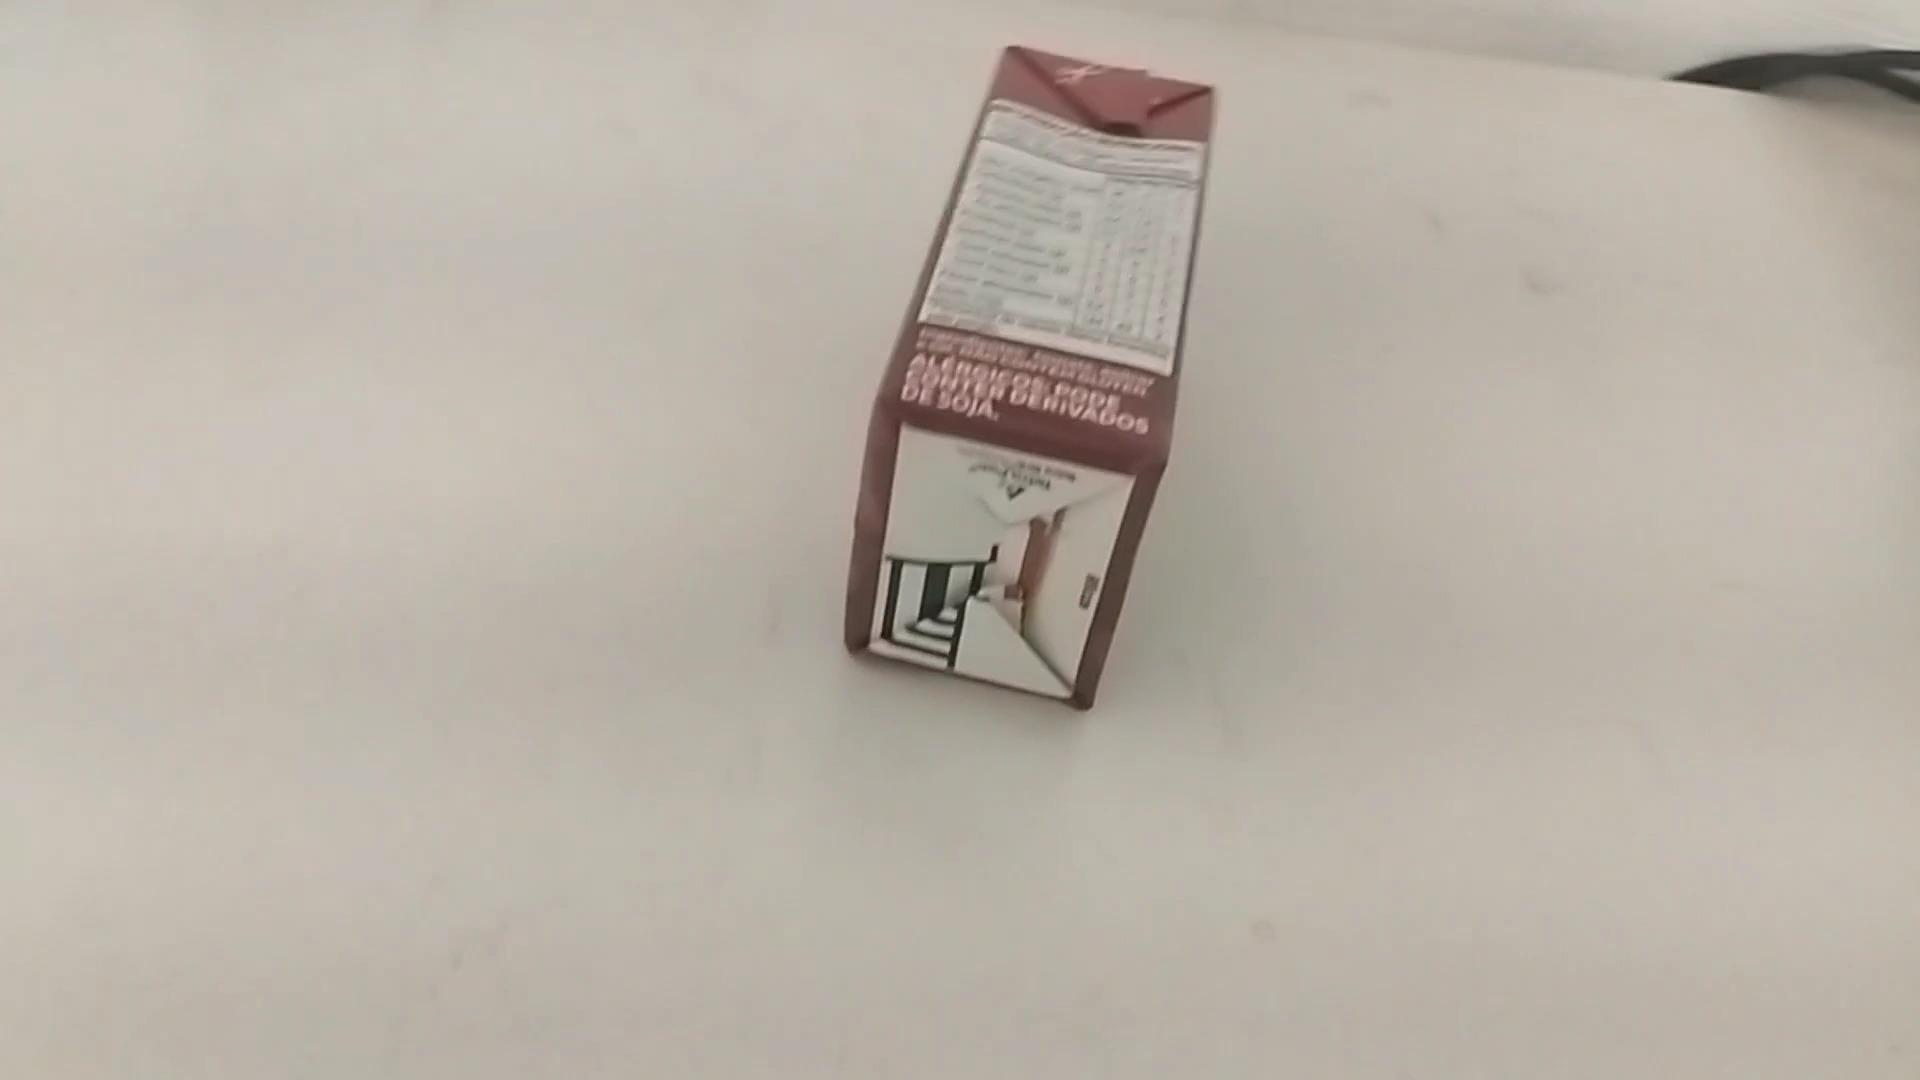tomate: (845, 42, 1212, 716)
